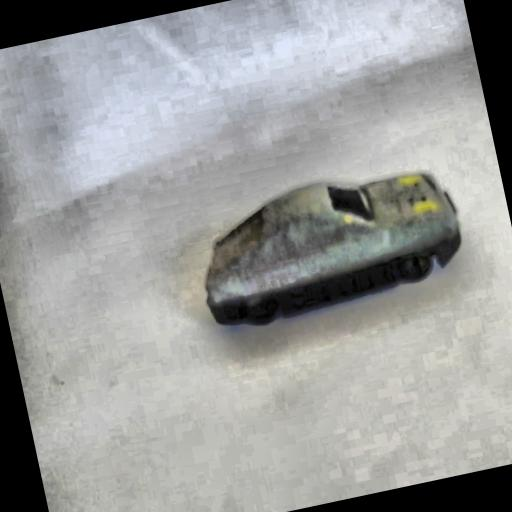normal_car: (178, 149, 474, 338)
